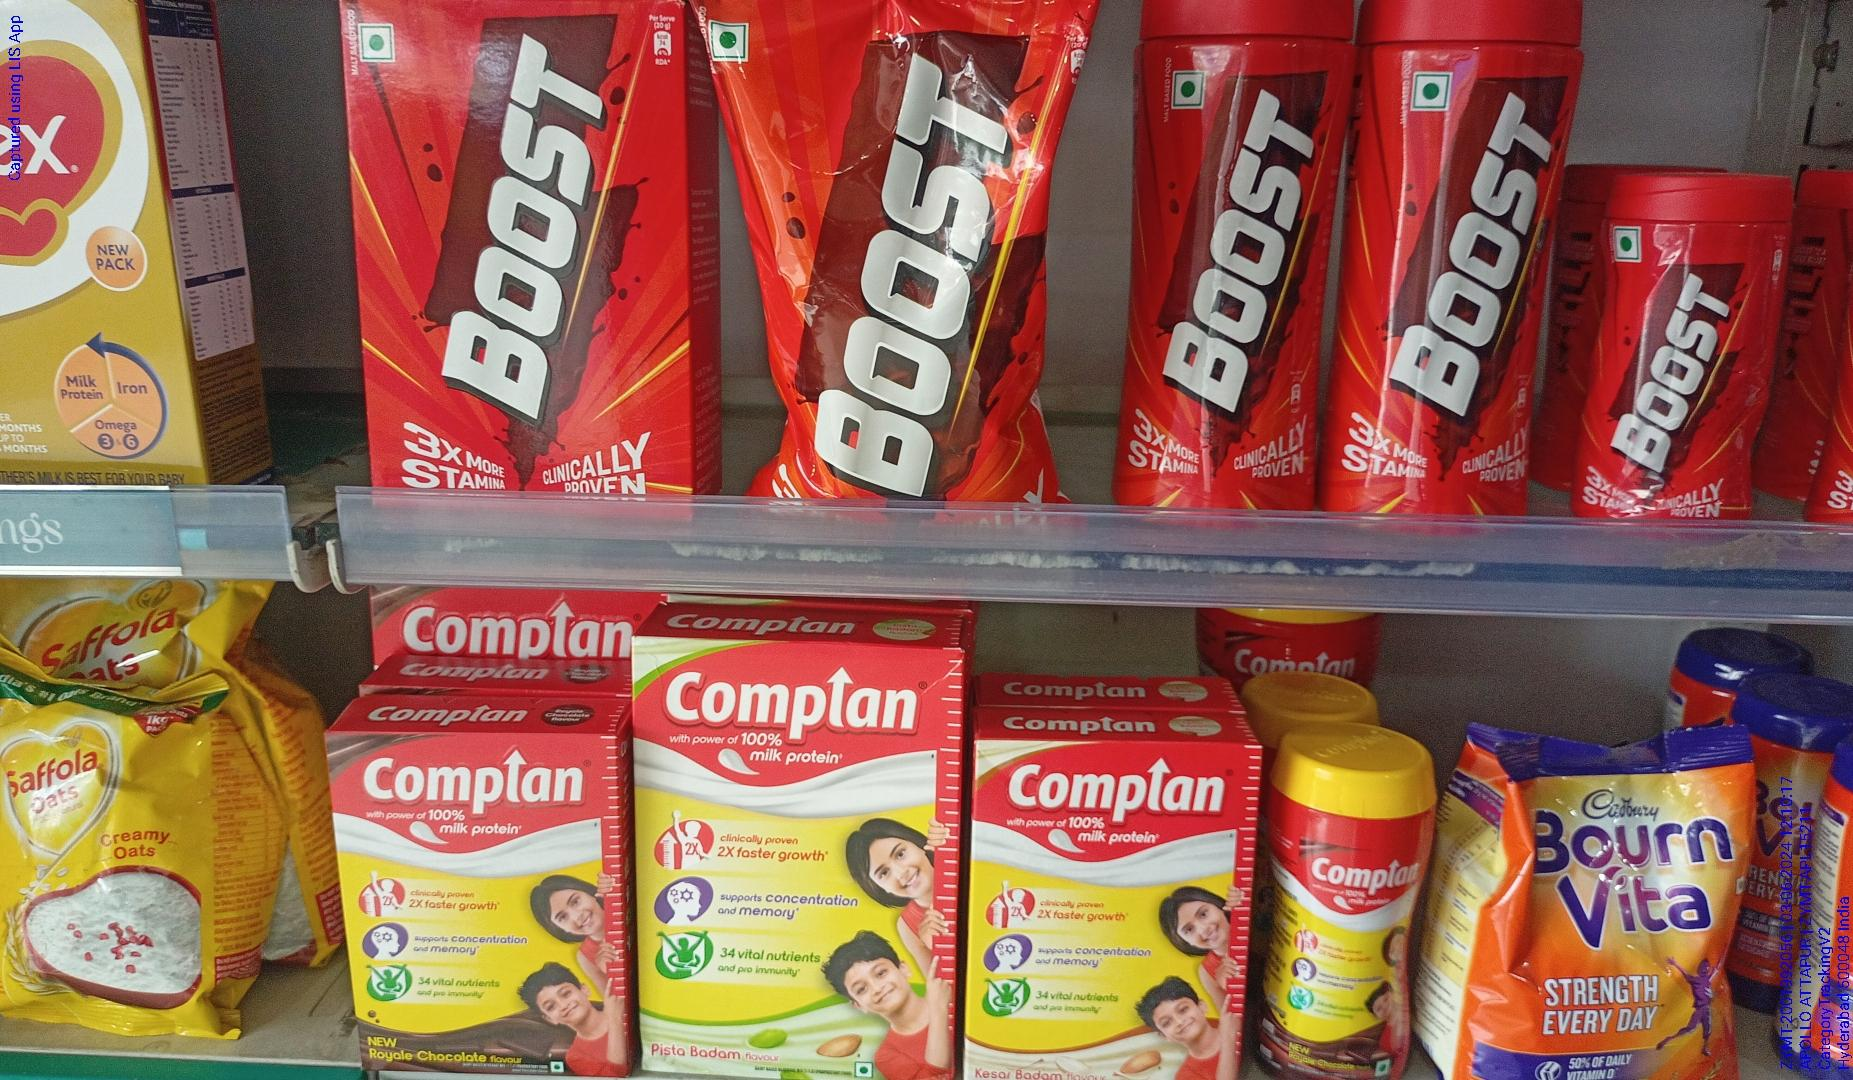COMPLAN_CHOCOLATE_200_GMS_JAR: (1268, 728, 1421, 1076)
COMPLAN_KESAR_BADAM_200_GMS_PACK: (966, 737, 1257, 1080)
COMPLAN_PISTA_BADAM_500_GMS_PACK: (628, 634, 951, 1070)
